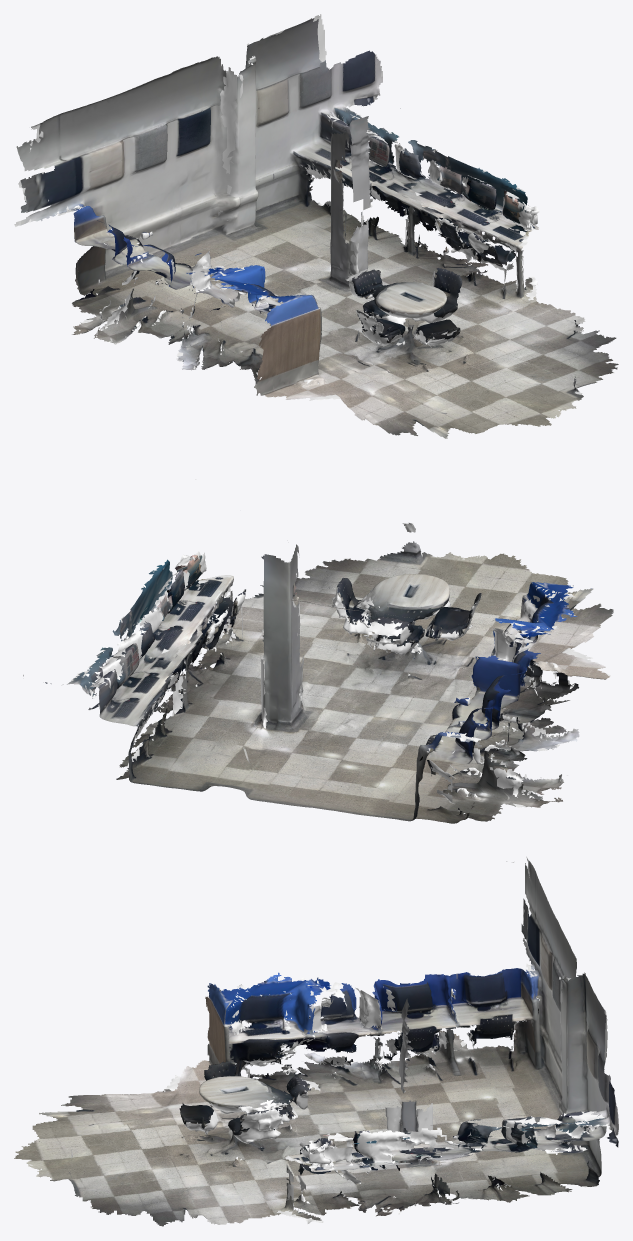
3 renders of one model, top to bottom at view 1: azimuth 30°, elevation 25°; view 2: azimuth 150°, elevation 25°; view 3: azimuth 270°, elevation 25°, orthographic. The views are drawn at different scales.
Parts seen in each view (by area): view 1: texture_0, texture_1, texture_2, texture_4, texture_3, object 1; view 2: texture_3, texture_0, texture_2, texture_1, texture_4, object 1; view 3: texture_0, texture_2, texture_4, texture_1, object 1, texture_3.
Part boxes in pixels (bbox=[...]): texture_0: bbox=[16, 79, 354, 366]; texture_1: bbox=[171, 18, 520, 319]; texture_2: bbox=[266, 138, 618, 438]; texture_4: bbox=[75, 56, 475, 435]; texture_3: bbox=[183, 108, 538, 397]; object 1: bbox=[14, 14, 614, 400]; texture_3: bbox=[100, 479, 578, 756]; texture_0: bbox=[209, 609, 563, 823]; texture_2: bbox=[154, 541, 592, 728]; texture_1: bbox=[23, 561, 412, 806]; texture_4: bbox=[291, 579, 613, 814]; object 1: bbox=[46, 523, 610, 813]; texture_0: bbox=[286, 859, 568, 1151]; texture_2: bbox=[14, 987, 469, 1226]; texture_4: bbox=[61, 924, 576, 1160]; texture_1: bbox=[188, 973, 618, 1213]; object 1: bbox=[71, 856, 609, 1223]; texture_3: bbox=[170, 972, 551, 1220].
Bounding box in the file's own units: 6.23 × 2.61 × 7.74.
6 materials, 5 textured.
